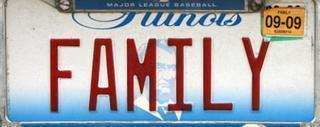placa de veiculo: (21, 3, 310, 125)
